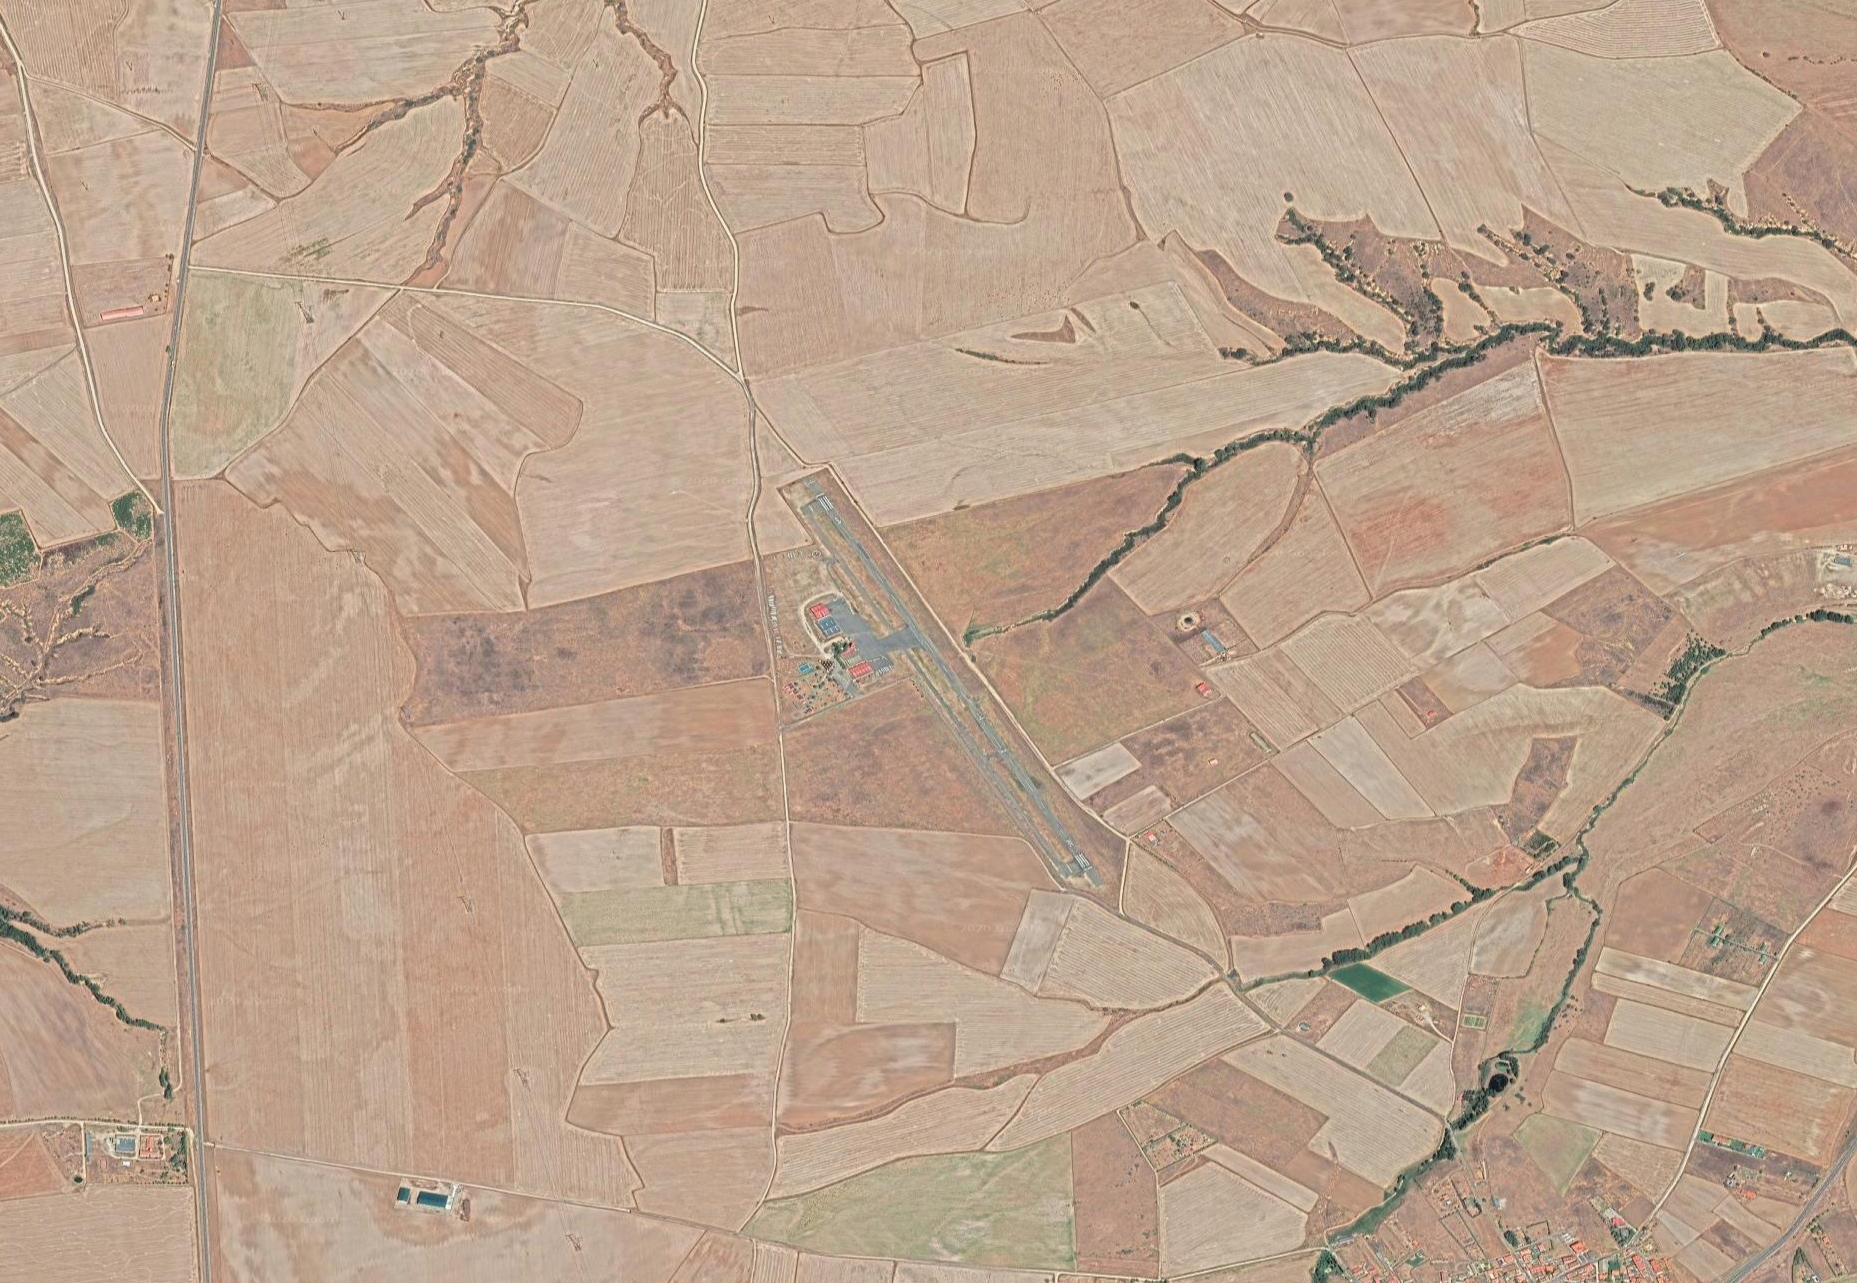airport: (796, 486, 1113, 895)
motorway: (181, 1104, 222, 1283), (174, 926, 214, 1105), (167, 742, 207, 922), (155, 560, 196, 740), (152, 378, 193, 558), (161, 199, 202, 378), (183, 18, 224, 198), (1785, 1145, 1857, 1234), (1706, 1228, 1796, 1283)
